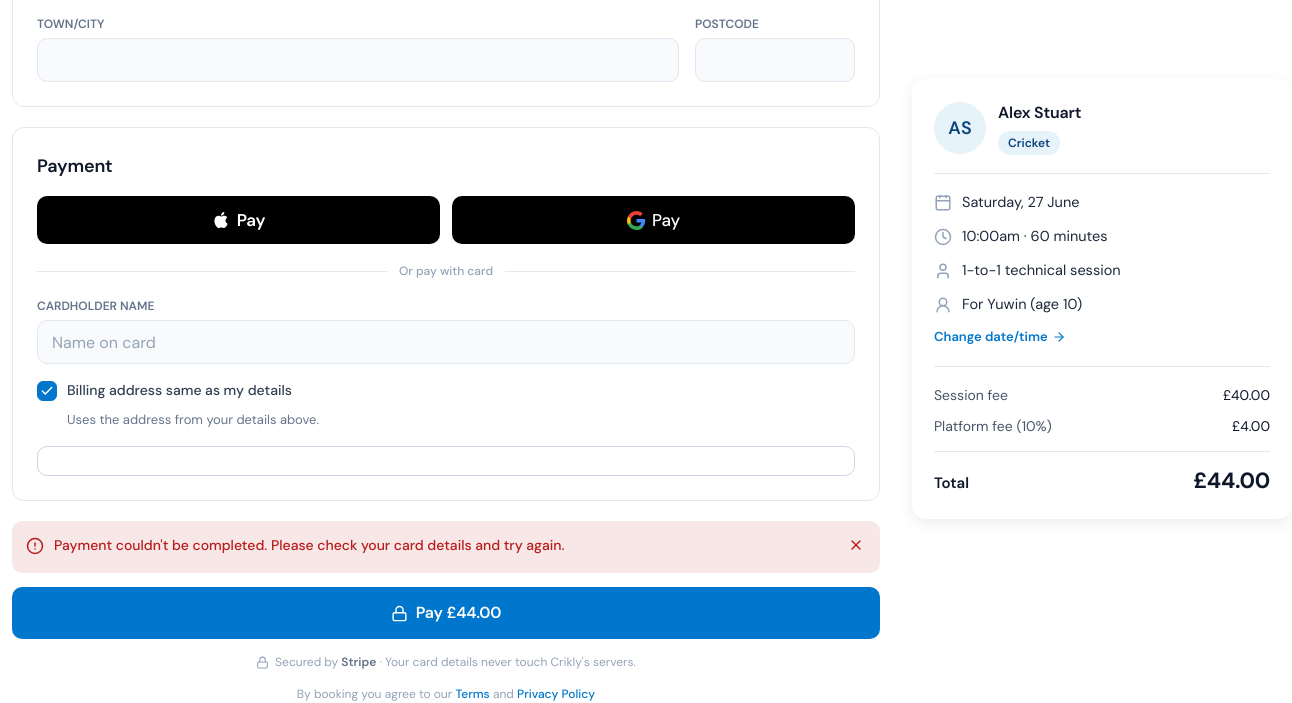
Test: GuestBookingFlow — payment error › clicking dismiss removes the error banner
(page scrolled)
Click the button named "Dismiss error" at point(856, 545), box [842, 531, 870, 559]
(page scrolled)
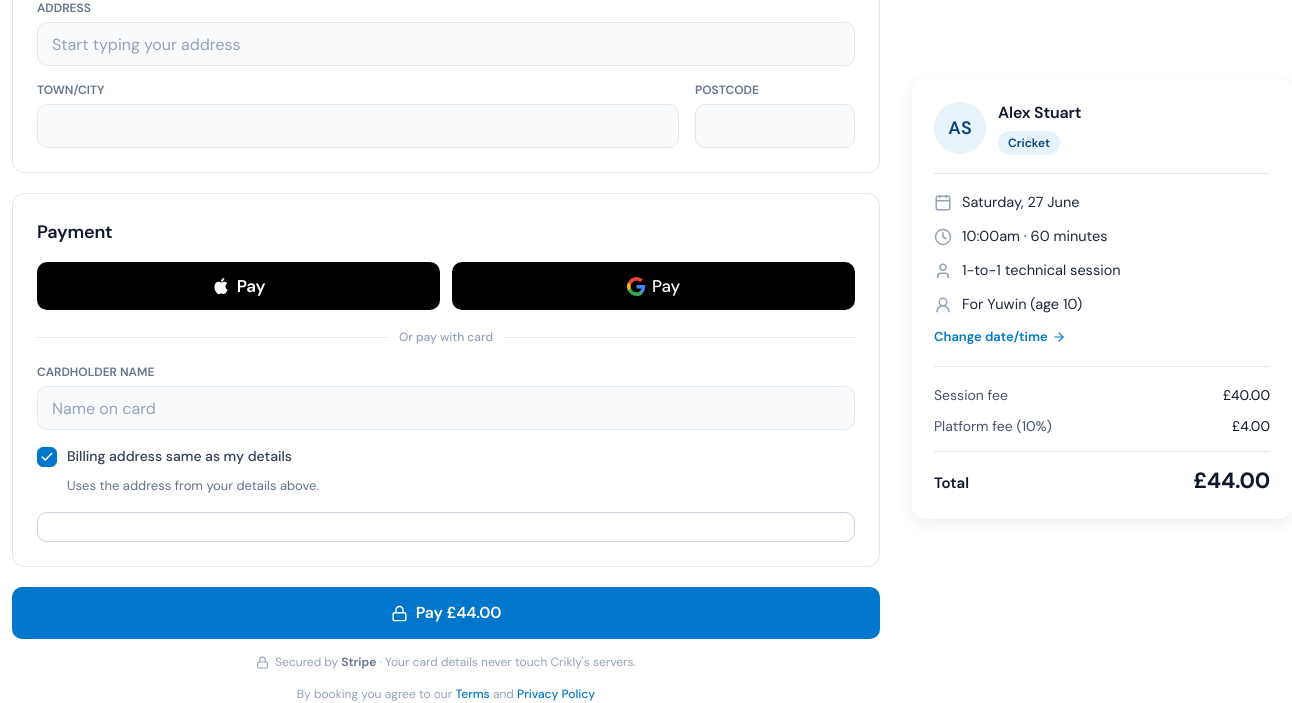
Now the message "Payment couldn't be completed. Please check your card details and try again." is gone
